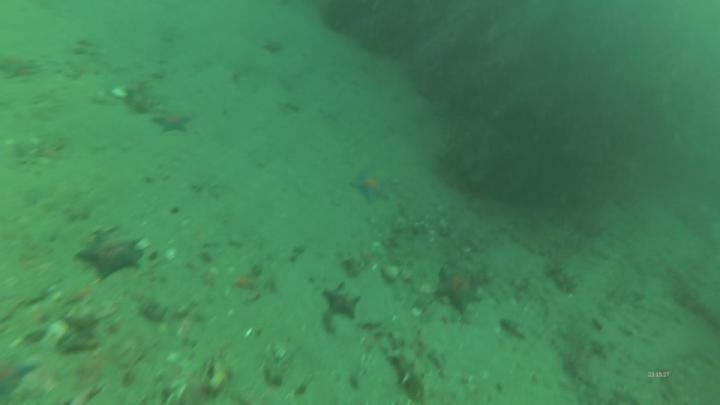holothurian: (388, 346, 432, 405)
starfish: (77, 229, 148, 281), (433, 267, 484, 314), (349, 169, 393, 208), (322, 281, 365, 320), (153, 110, 195, 139)
